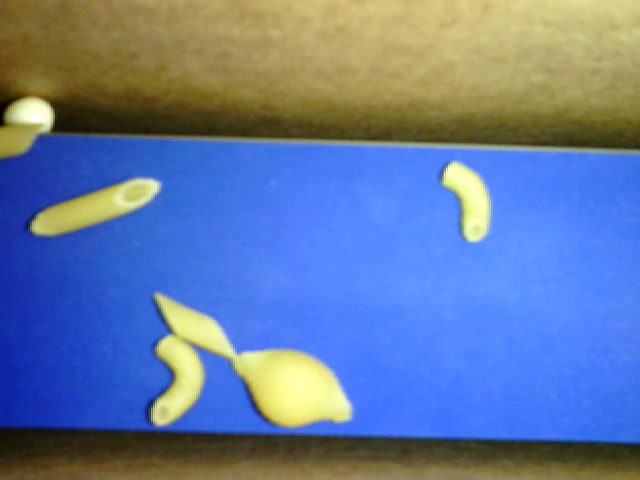elbow: (150, 334, 204, 427), (441, 161, 490, 242)
penne: (29, 176, 163, 238), (153, 292, 237, 358)
shell: (230, 347, 353, 427)
